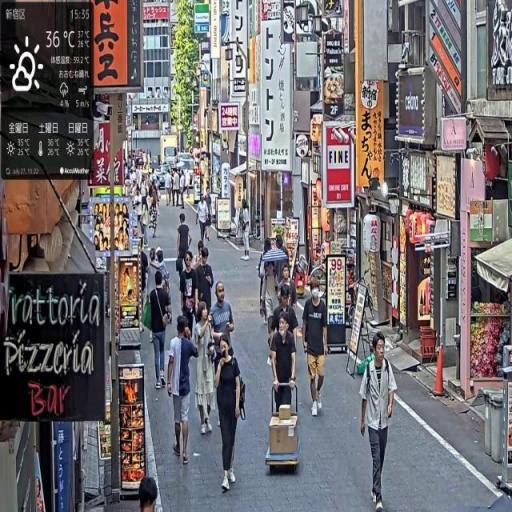person: (359, 331, 398, 512), (213, 330, 248, 493), (167, 315, 202, 468), (302, 278, 331, 419), (192, 300, 219, 439), (146, 271, 172, 391), (269, 311, 298, 418), (181, 254, 198, 341), (196, 193, 211, 247), (139, 477, 162, 512), (240, 200, 252, 261)
